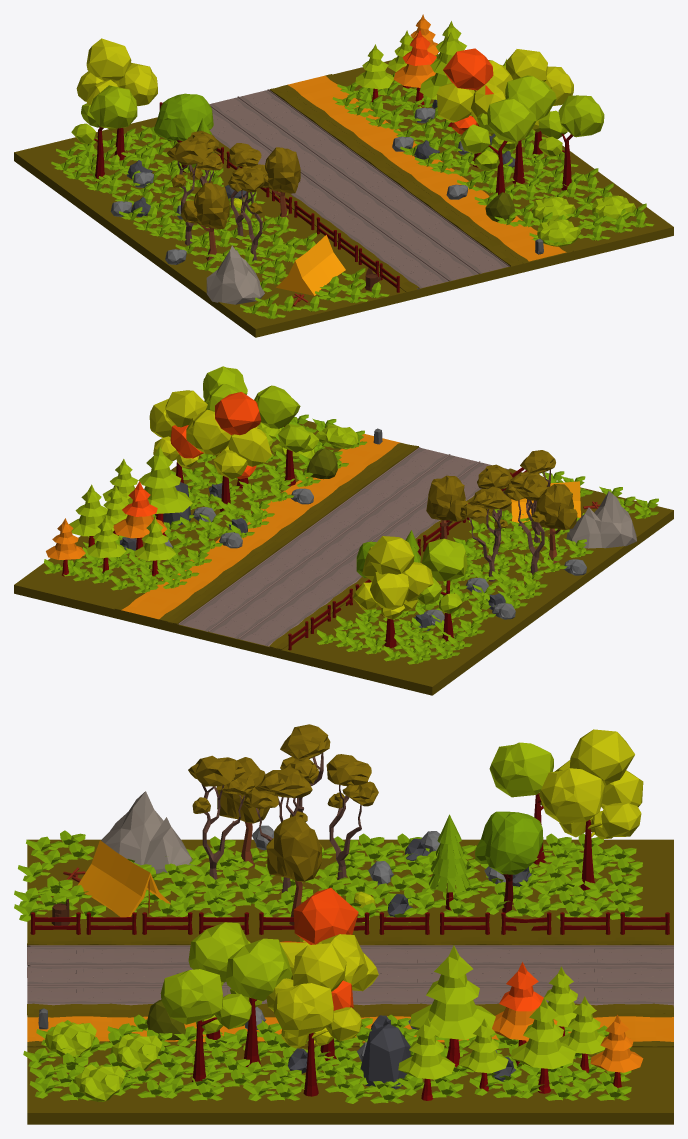
File: Forest Area 1.fbx
3 views of the same model, one above another, from view 1: azimuth 30°, elevation 25°; view 2: azimuth 150°, elevation 25°; view 3: azimuth 270°, elevation 25° (orthographic). The views are drawn at different scales.
Parts seen in each view (by area): view 1: SM_Env_Grass_01.007, Plane.001, Tree3, Tree3.002, Tree1, Tree1.002, Tree1.003, Rock10.002, Tree1.001, Tree_03, Tent, Tree3.001 (+15 smaller); view 2: SM_Env_Grass_01.007, Plane.001, Tree3, Tree3.002, Tree3.001, Tree1.003, Tree1, Rock10.002, Tree2.006, SM_Env_Tree_02.001, SM_Env_Tree_03.001, SM_Env_Tree_02.003 (+16 smaller); view 3: Plane.001, SM_Env_Grass_01.007, Tree3.002, Tree3.001, WoodFence1.005, Tree3, Tree1.002, Tree2.006, Rock10.002, Tree_03, Tree1.001, Tent (+21 smaller).
Boxes of the visible parts, <box> form: SM_Env_Grass_01.007: <box>209,74,573,291</box>; Plane.001: <box>14,54,673,337</box>; Tree3: <box>436,48,512,167</box>; Tree3.002: <box>76,38,157,159</box>; Tree1: <box>460,98,536,194</box>; Tree1.002: <box>538,95,604,190</box>; Tree1.003: <box>71,85,137,181</box>; Rock10.002: <box>206,245,264,304</box>; Tree1.001: <box>477,75,556,183</box>; Tree_03: <box>154,93,213,172</box>; Tent: <box>276,235,345,295</box>; Tree3.001: <box>506,49,573,157</box>; SM_Env_Grass_01.007: <box>115,434,522,649</box>; Plane.001: <box>14,418,673,695</box>; Tree3: <box>186,392,271,511</box>; Tree3.002: <box>353,536,433,647</box>; Tree3.001: <box>149,390,207,483</box>; Tree1.003: <box>417,538,467,641</box>; Tree1: <box>254,385,319,485</box>; Rock10.002: <box>566,491,636,548</box>; Tree2.006: <box>127,446,192,535</box>; SM_Env_Tree_02.001: <box>504,473,546,574</box>; SM_Env_Tree_03.001: <box>535,484,577,563</box>; SM_Env_Tree_02.003: <box>460,486,511,581</box>; Plane.001: <box>27,839,673,1124</box>; SM_Env_Grass_01.007: <box>27,937,673,1047</box>; Tree3.002: <box>539,729,643,890</box>; Tree3.001: <box>266,943,361,1096</box>; WoodFence1.005: <box>30,912,669,934</box>; Tree3: <box>280,887,378,1060</box>; Tree1.002: <box>160,969,251,1081</box>; Tree2.006: <box>410,945,495,1067</box>; Rock10.002: <box>101,791,194,873</box>; Tree_03: <box>475,811,543,912</box>; Tree1.001: <box>225,938,292,1066</box>; Tent: <box>77,840,170,917</box>.
Size of the model in its own units: 10093 by 2889 by 10207.
